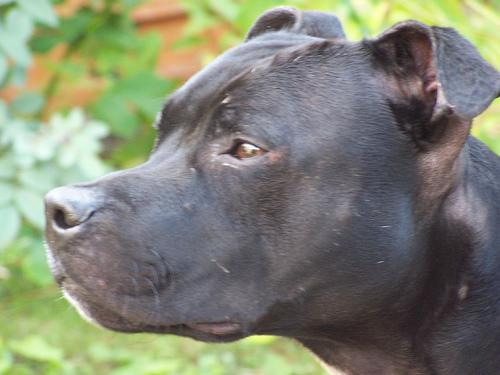dog-staffordshire_bull_terrier: (43, 5, 498, 342)
